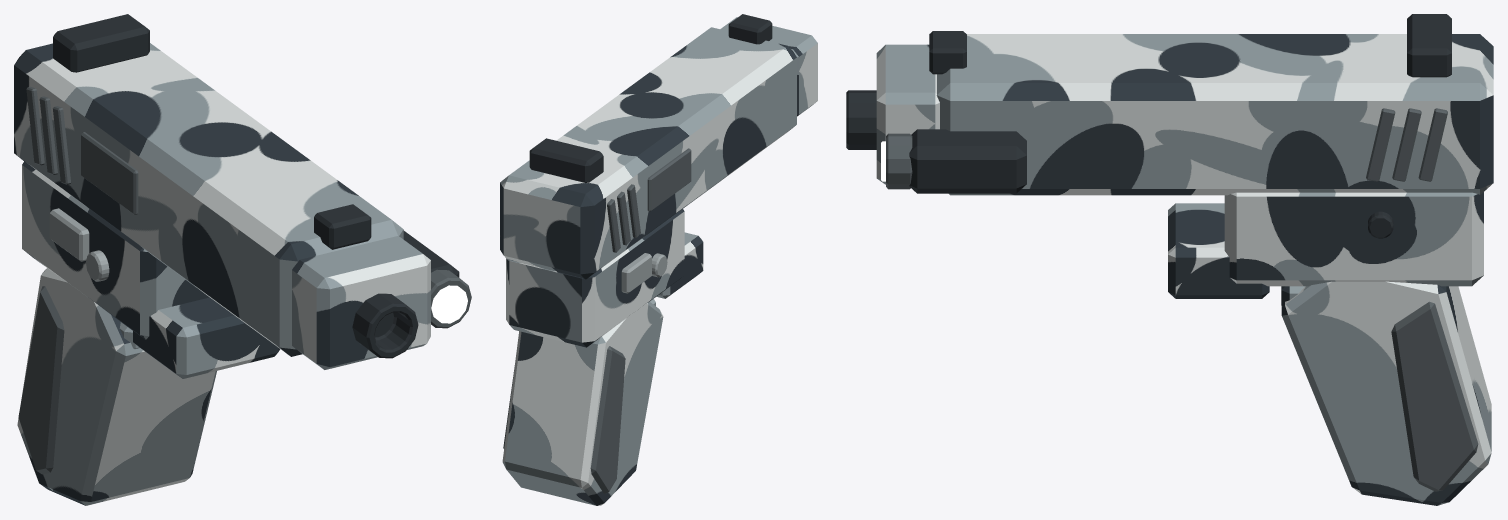
File: M17_SnowCamo.glb
The picture shows the model from 3 angles, left to right: view 1: azimuth 30°, elevation 25°; view 2: azimuth 150°, elevation 25°; view 3: azimuth 270°, elevation 25°; orthographic projection. The views are drawn at different scales.
Visible parts, largest first — view 1: FTF_Weapon_M17_RuralCamo_Mesh, FlashlightGlow; view 2: FTF_Weapon_M17_RuralCamo_Mesh; view 3: FTF_Weapon_M17_RuralCamo_Mesh.
Part boxes in pixels (x1,y1,x2,y2): FTF_Weapon_M17_RuralCamo_Mesh: [14, 14, 471, 505]; FlashlightGlow: [431, 285, 467, 323]; FTF_Weapon_M17_RuralCamo_Mesh: [500, 14, 817, 505]; FTF_Weapon_M17_RuralCamo_Mesh: [846, 14, 1493, 505].
Bounding box in the file's own units: 0.258 × 0.6609 × 0.86.
5 materials, 1 textured.
